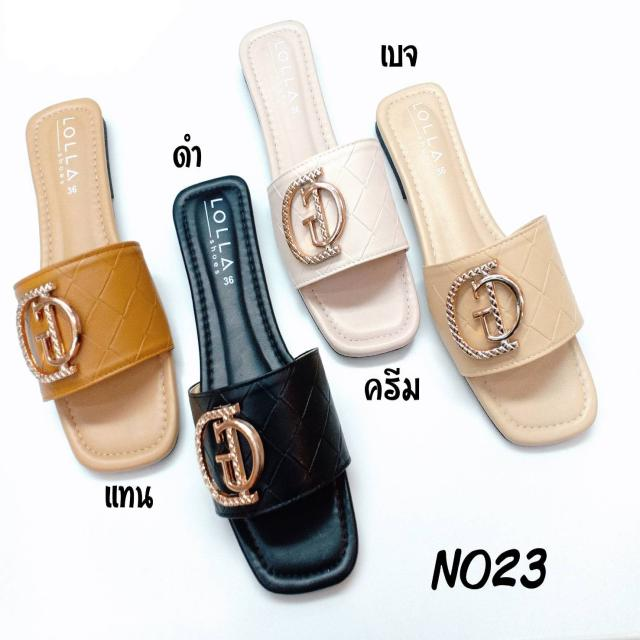bej: (377, 81, 594, 449)
black: (179, 172, 358, 584)
cream: (244, 22, 418, 353)
tan: (28, 97, 175, 469)
